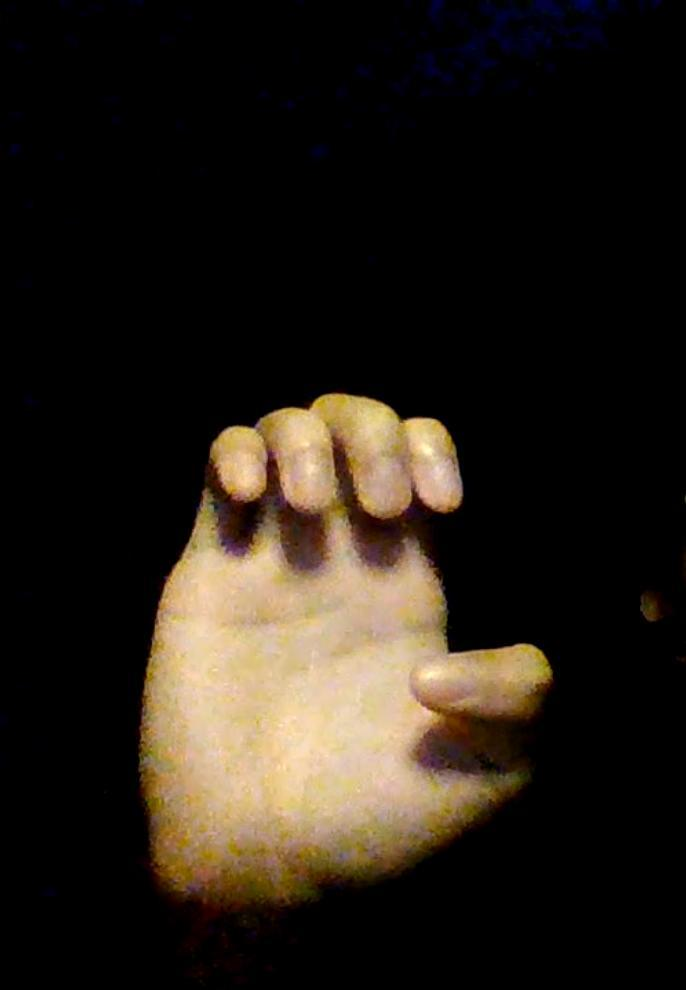e: (138, 393, 556, 908)
